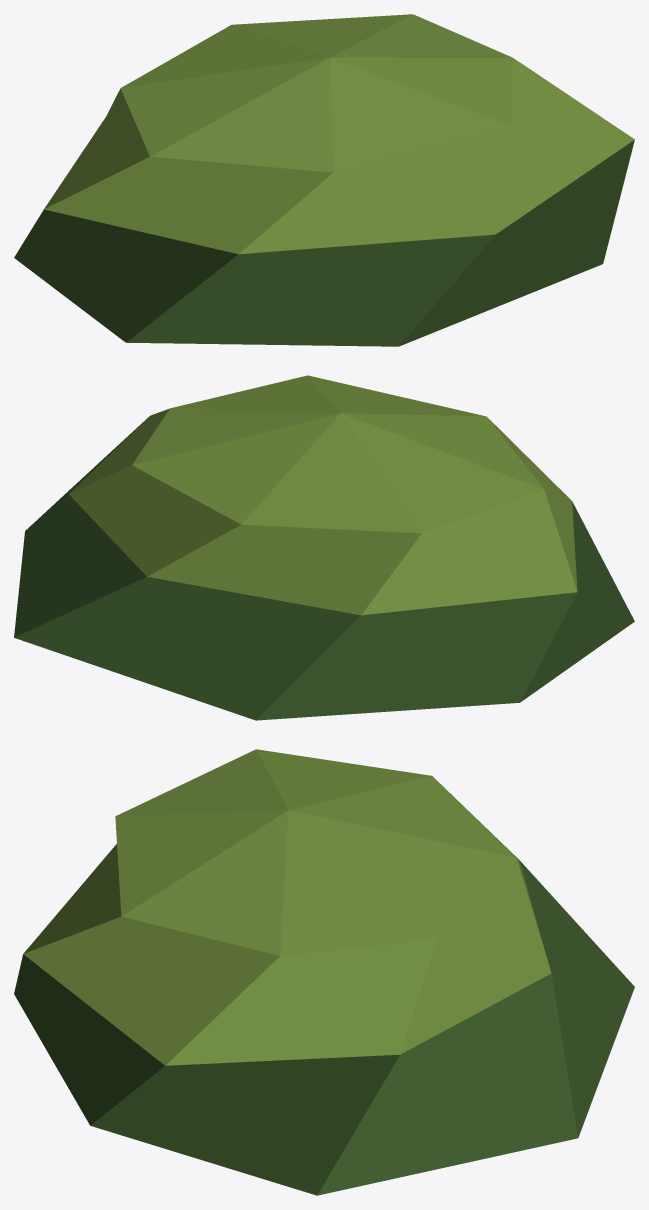
File: gf_stone_e.glb
The picture shows the model from 3 angles, top to bottom: view 1: azimuth 30°, elevation 25°; view 2: azimuth 150°, elevation 25°; view 3: azimuth 270°, elevation 25°; orthographic projection. The views are drawn at different scales.
Parts seen in each view (by area): view 1: gf_stone_e; view 2: gf_stone_e; view 3: gf_stone_e.
Part boxes in pixels (x1,y1,x2,y2): gf_stone_e: (14, 14, 634, 346); gf_stone_e: (14, 375, 634, 720); gf_stone_e: (14, 749, 634, 1195).
Size of the model in its own units: 0.1862 by 0.058 by 0.1532.
